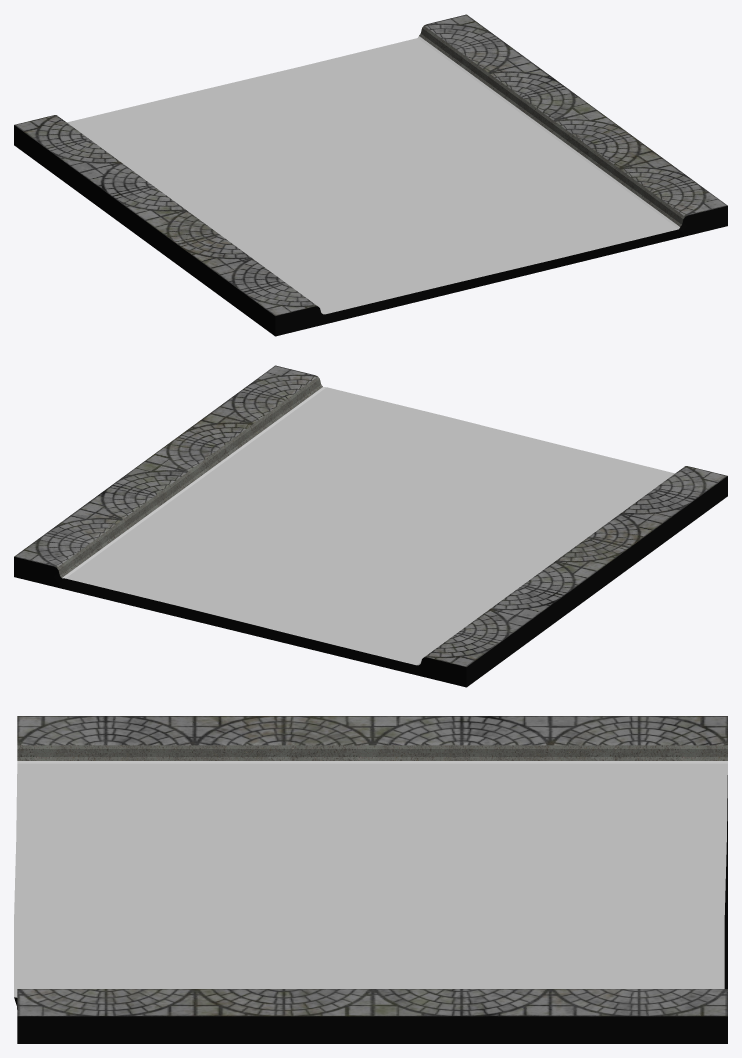
Rendered from GAME-ROAD.fbx.
The picture shows the model from 3 angles, top to bottom: view 1: azimuth 30°, elevation 25°; view 2: azimuth 150°, elevation 25°; view 3: azimuth 270°, elevation 25°; orthographic projection. The views are drawn at different scales.
Visible parts, largest first — view 1: whole; view 2: whole; view 3: whole.
Boxes of the visible parts, x1=… form: whole: x1=14, y1=14, x2=727, y2=336; whole: x1=14, y1=365, x2=727, y2=687; whole: x1=14, y1=716, x2=727, y2=1043.
Size of the model in its own units: 3000 by 129 by 3014.
